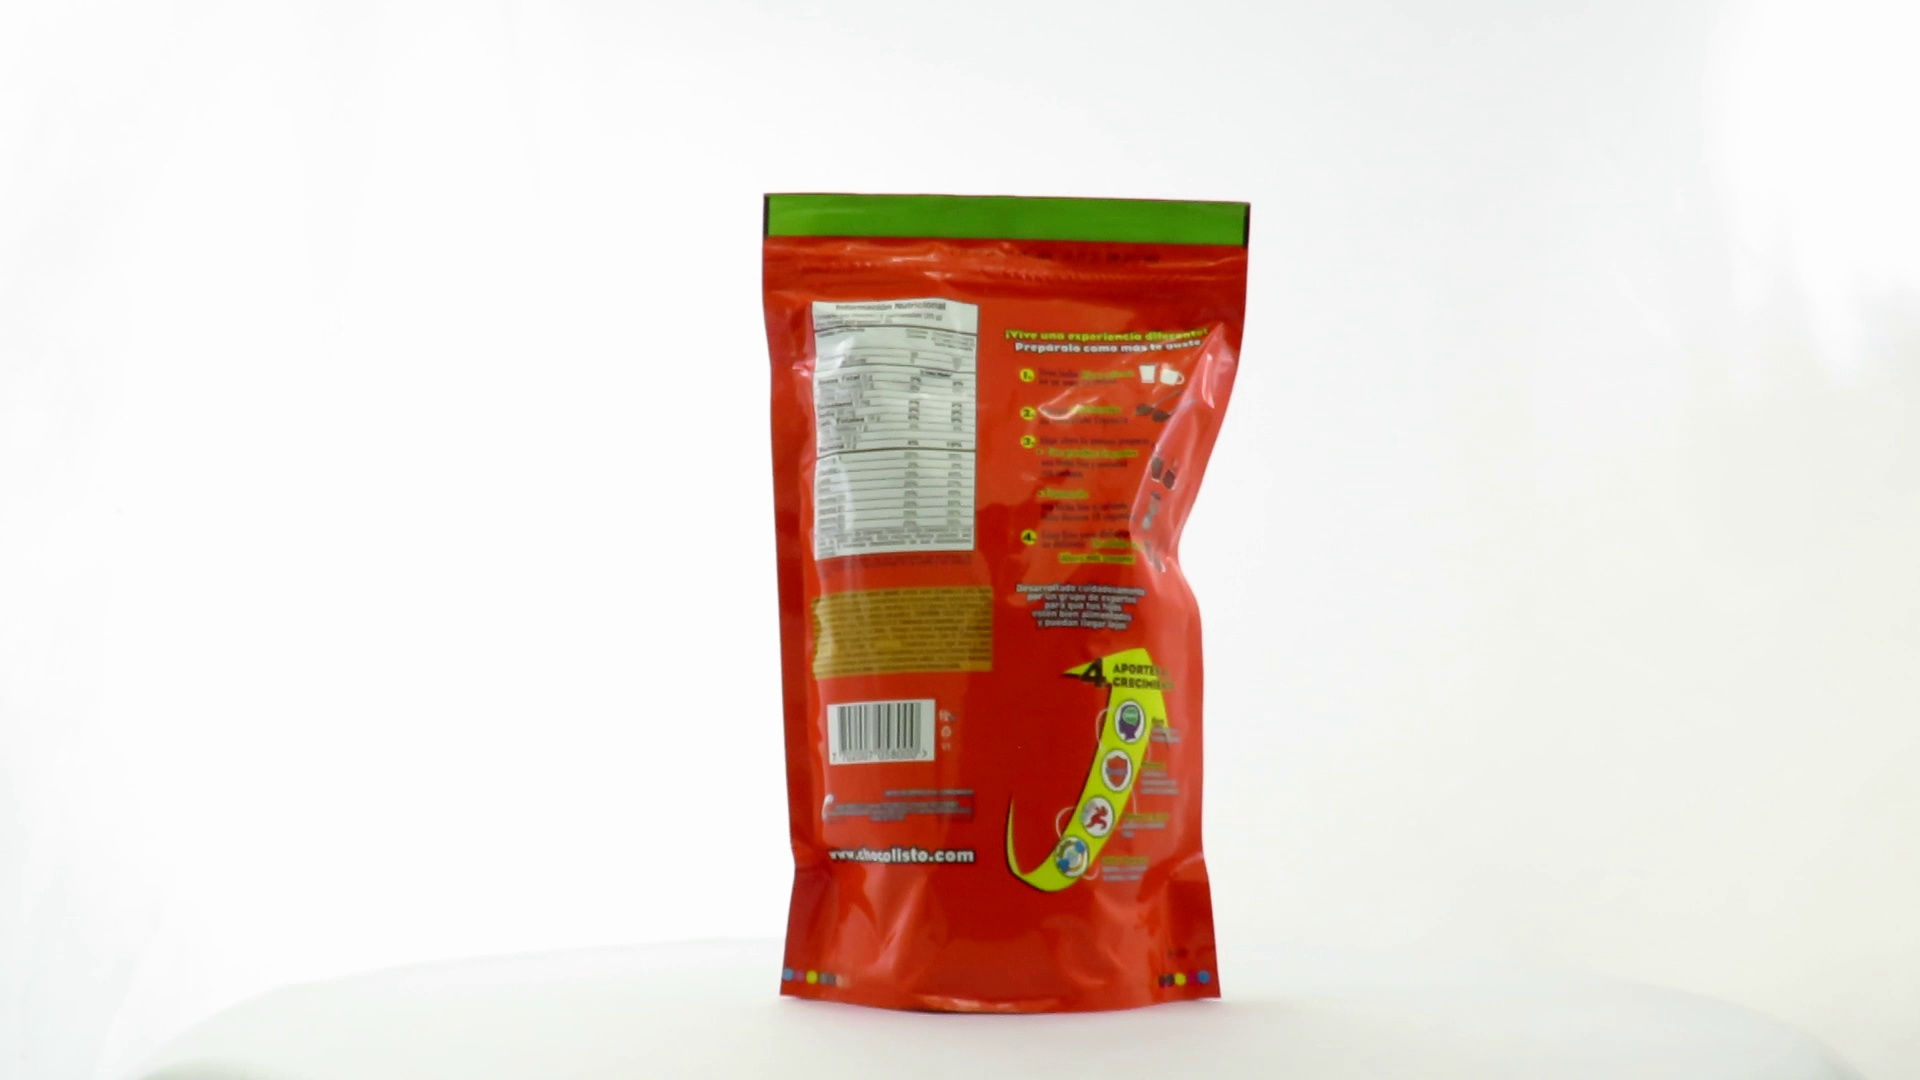COL0170102DYP50000: (757, 187, 1257, 1022)
